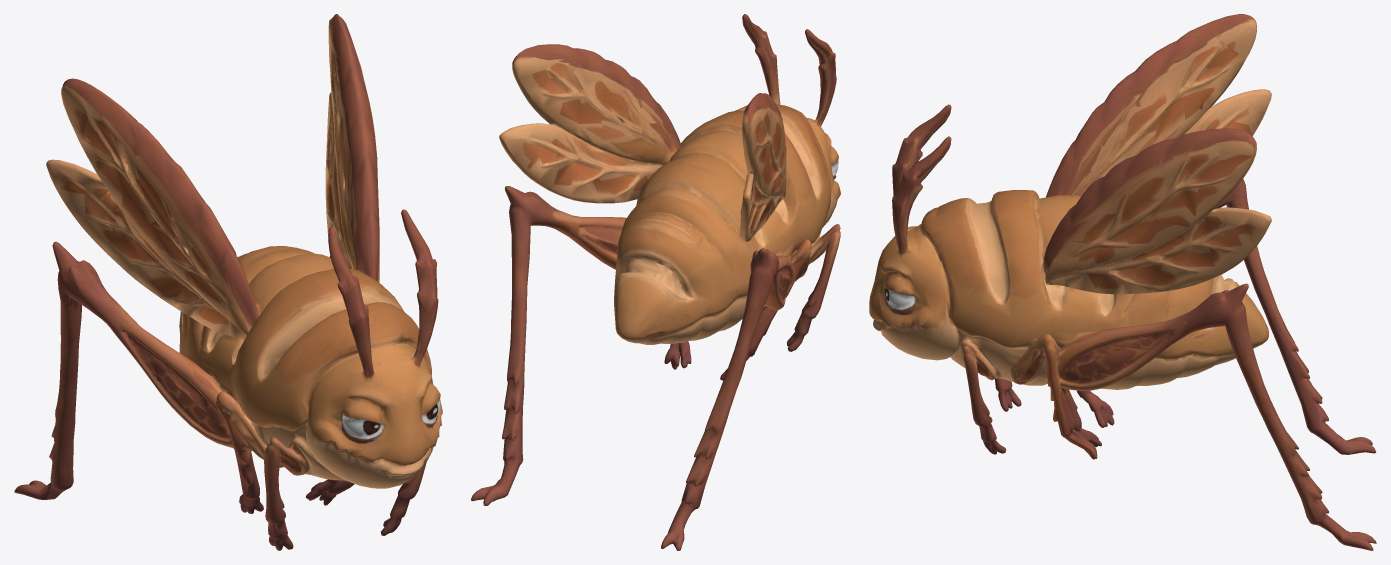
3 renders of one model, left to right at view 1: azimuth 30°, elevation 25°; view 2: azimuth 150°, elevation 25°; view 3: azimuth 270°, elevation 25°, orthographic. The views are drawn at different scales.
Parts seen in each view (by area): view 1: Mesh_0; view 2: Mesh_0; view 3: Mesh_0.
Boxes of the visible parts, x1,y1,x2,y2 form: Mesh_0: (14, 14, 442, 550); Mesh_0: (471, 14, 840, 550); Mesh_0: (869, 14, 1376, 550).
Bounding box in the file's own units: 1.19 × 1.76 × 1.9.
Materials: 1 (1 with a texture image).
